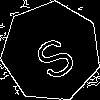S: (26, 26, 80, 83)
